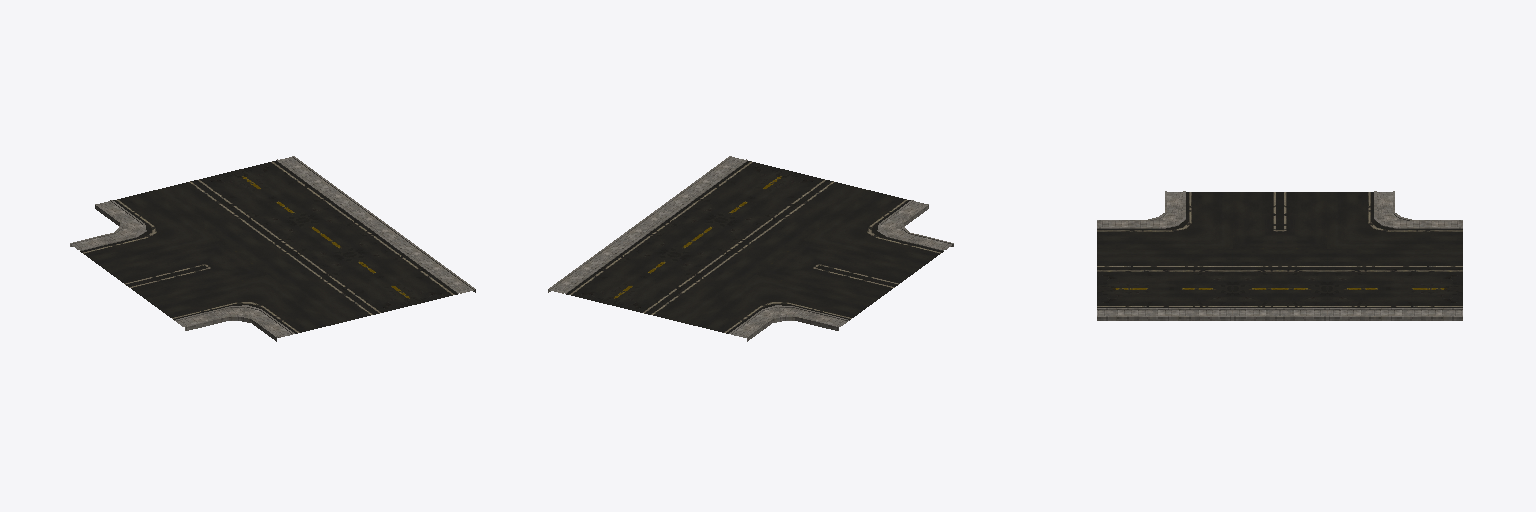
The picture shows the model from 3 angles: view 1: azimuth 30°, elevation 25°; view 2: azimuth 150°, elevation 25°; view 3: azimuth 270°, elevation 25°; orthographic projection.
Visible parts, largest first — view 1: 7_Road-Intersection-D; view 2: 7_Road-Intersection-D; view 3: 7_Road-Intersection-D.
Boxes of the visible parts, box(x1,y1,x2,y2) form: 7_Road-Intersection-D: box(70, 156, 475, 341); 7_Road-Intersection-D: box(548, 156, 953, 341); 7_Road-Intersection-D: box(1097, 191, 1462, 320).
Size of the model in its own units: 1.36 by 0.0219 by 1.67.
Materials: 1 (1 with a texture image).